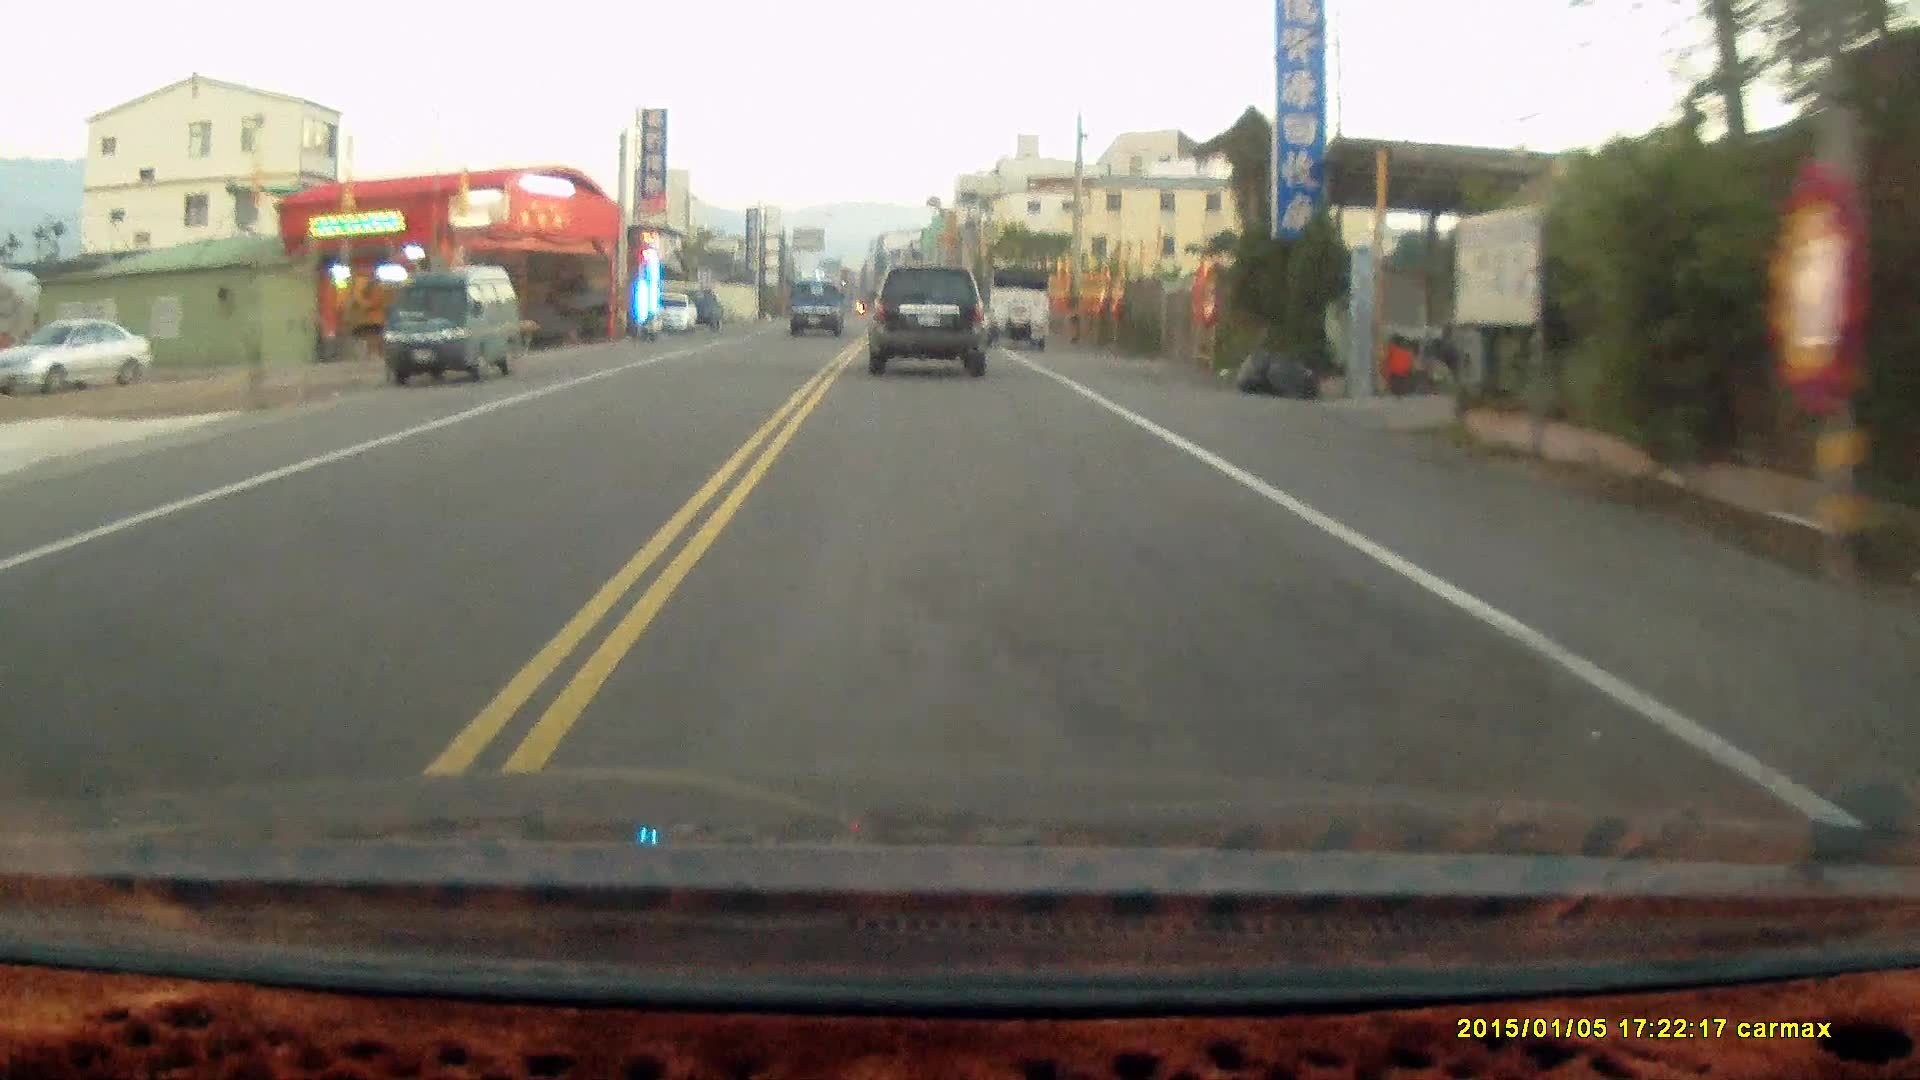vehicle: (380, 264, 524, 389), (869, 265, 989, 378), (0, 314, 152, 396), (969, 268, 1054, 353), (789, 284, 845, 342)
